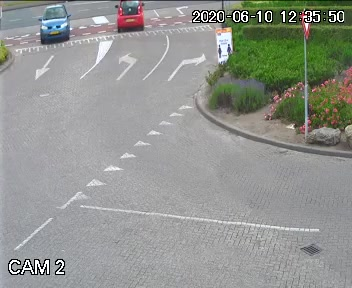car: (36, 1, 74, 48), (111, 0, 146, 33)
